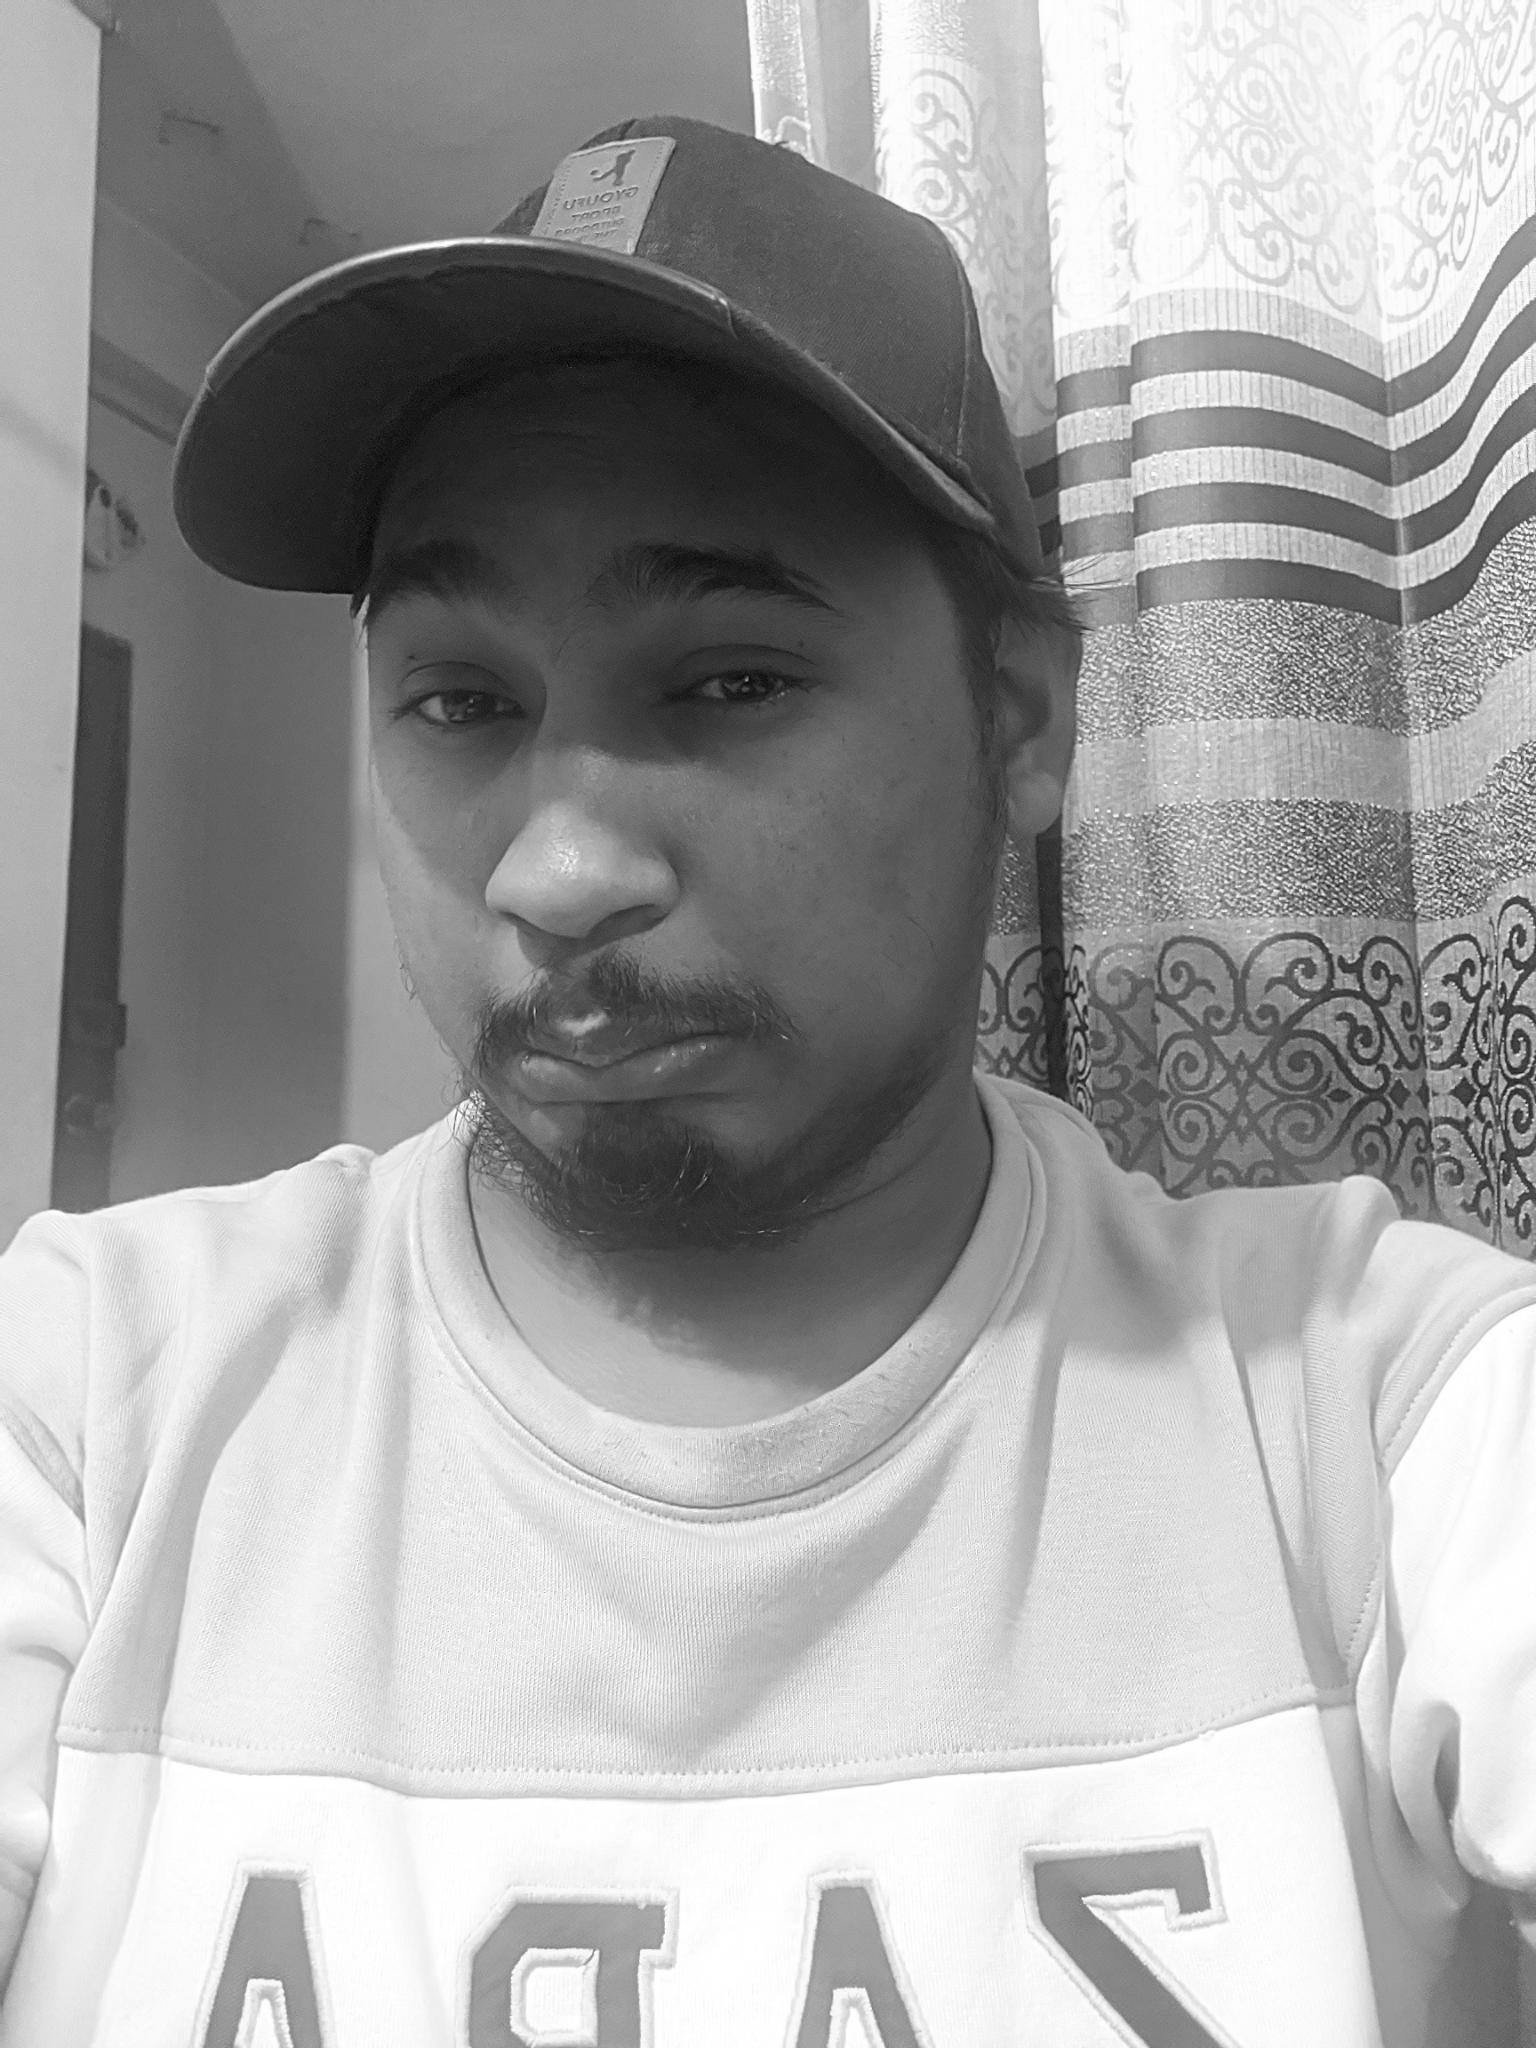Disgust: (321, 468, 921, 1240)
